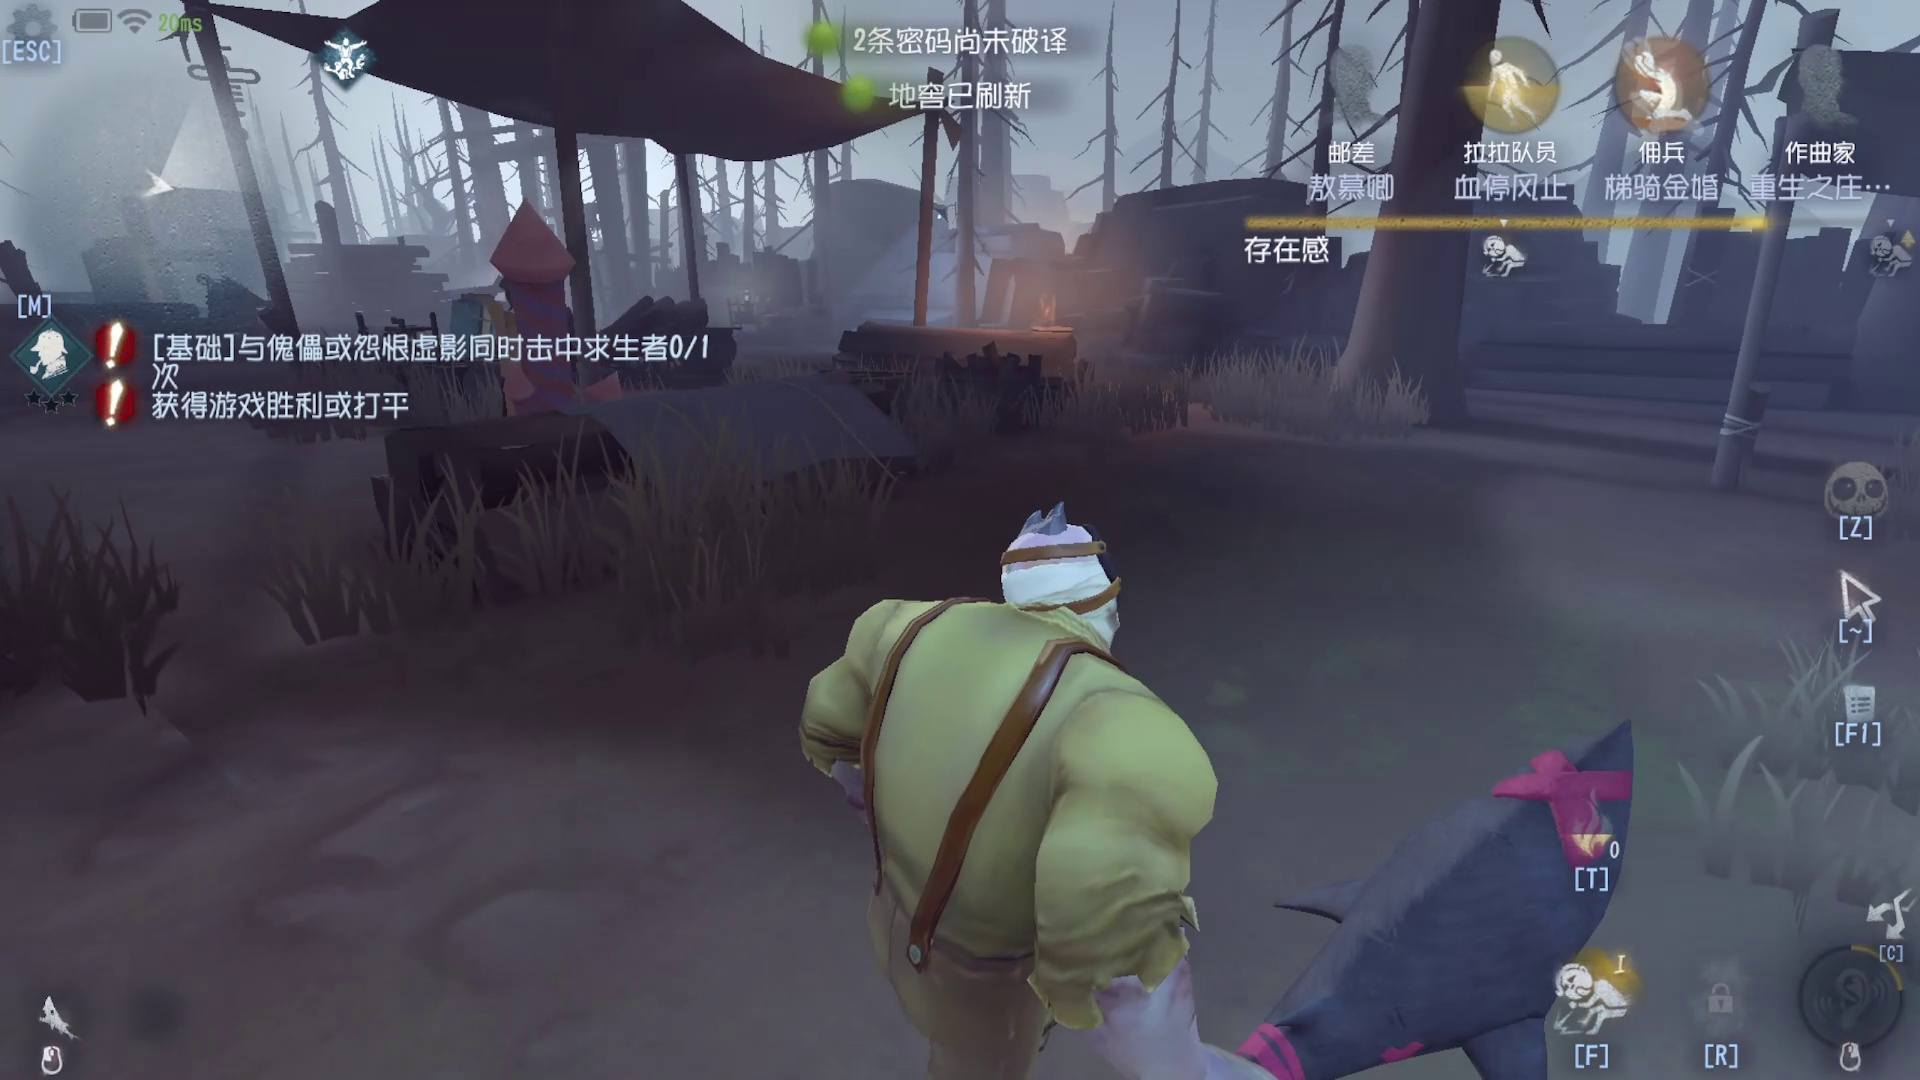技能: (1528, 752, 1635, 887)
狂欢之椅: (483, 219, 608, 438)
